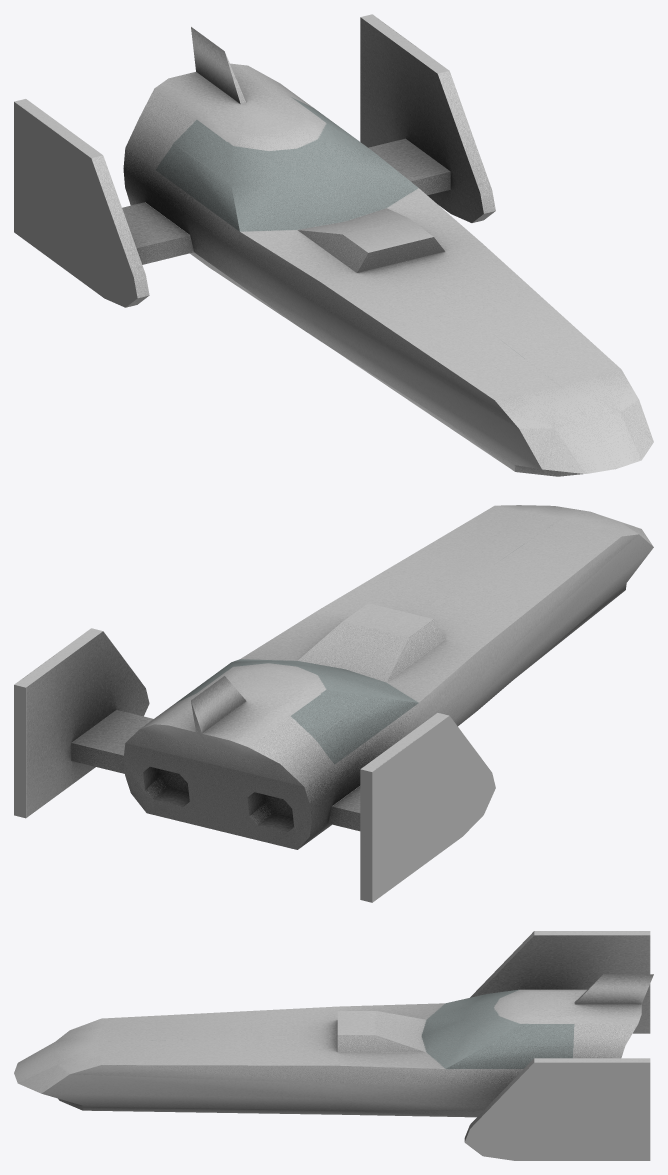
File: Ship3.fbx
The picture shows the model from 3 angles, top to bottom: view 1: azimuth 30°, elevation 25°; view 2: azimuth 150°, elevation 25°; view 3: azimuth 270°, elevation 25°; orthographic projection. The views are drawn at different scales.
Visible parts, largest first — view 1: Ship_Body; view 2: Ship_Body; view 3: Ship_Body.
Part boxes in pixels (x1=…): Ship_Body: x1=14, y1=14, x2=653, y2=476; Ship_Body: x1=14, y1=505, x2=653, y2=902; Ship_Body: x1=14, y1=931, x2=653, y2=1160.
Bounding box in the file's own units: 1.78 × 0.7608 × 3.66.
3 materials, 3 textured.
